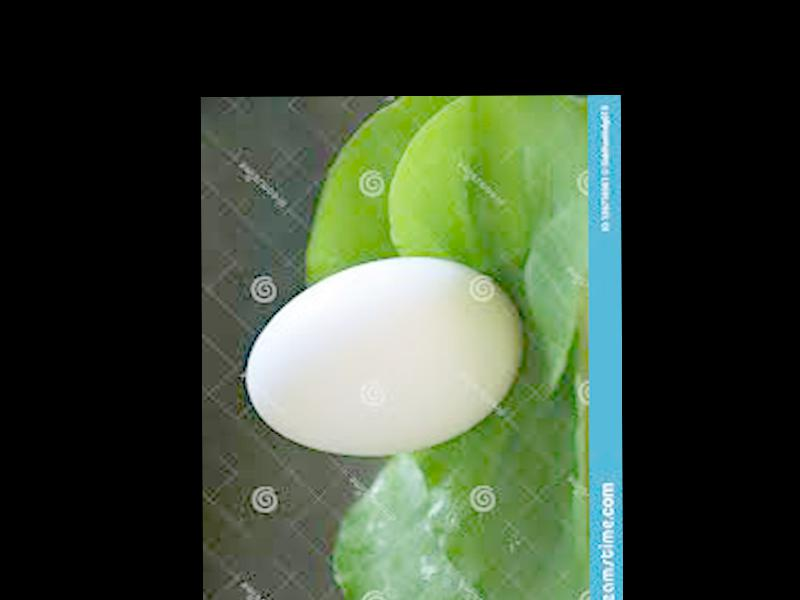Eggs: (245, 256, 521, 457)
